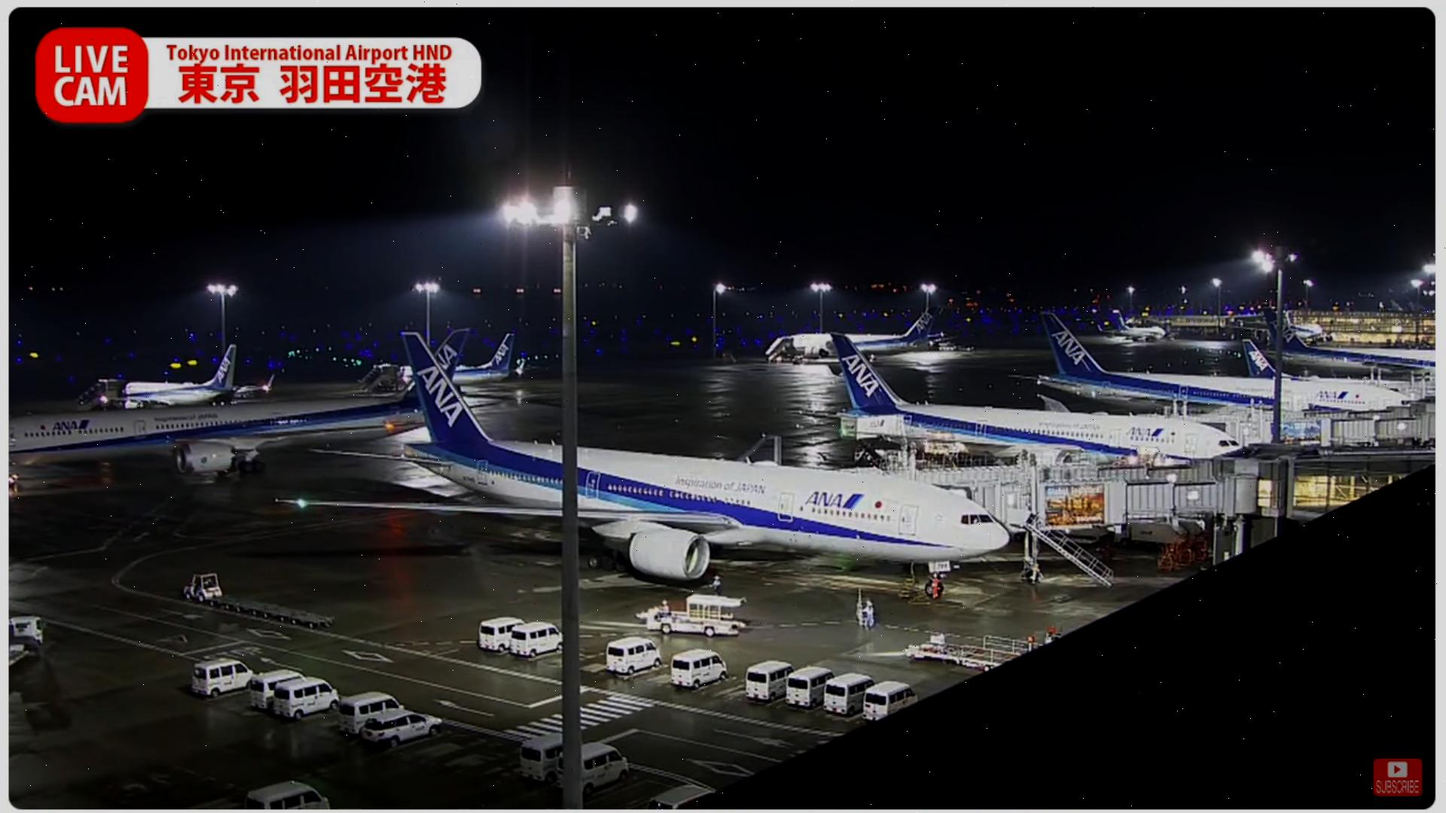Aerobridge: (985, 471, 1284, 539), (899, 458, 1292, 499)
Airplane: (265, 327, 1013, 586)
Dolly: (220, 590, 342, 636)
JCPL: (900, 638, 1016, 674), (926, 632, 1048, 654)
Skyloader: (636, 591, 751, 637)
Tractor: (176, 568, 229, 608)
Window: (1286, 461, 1434, 519)
